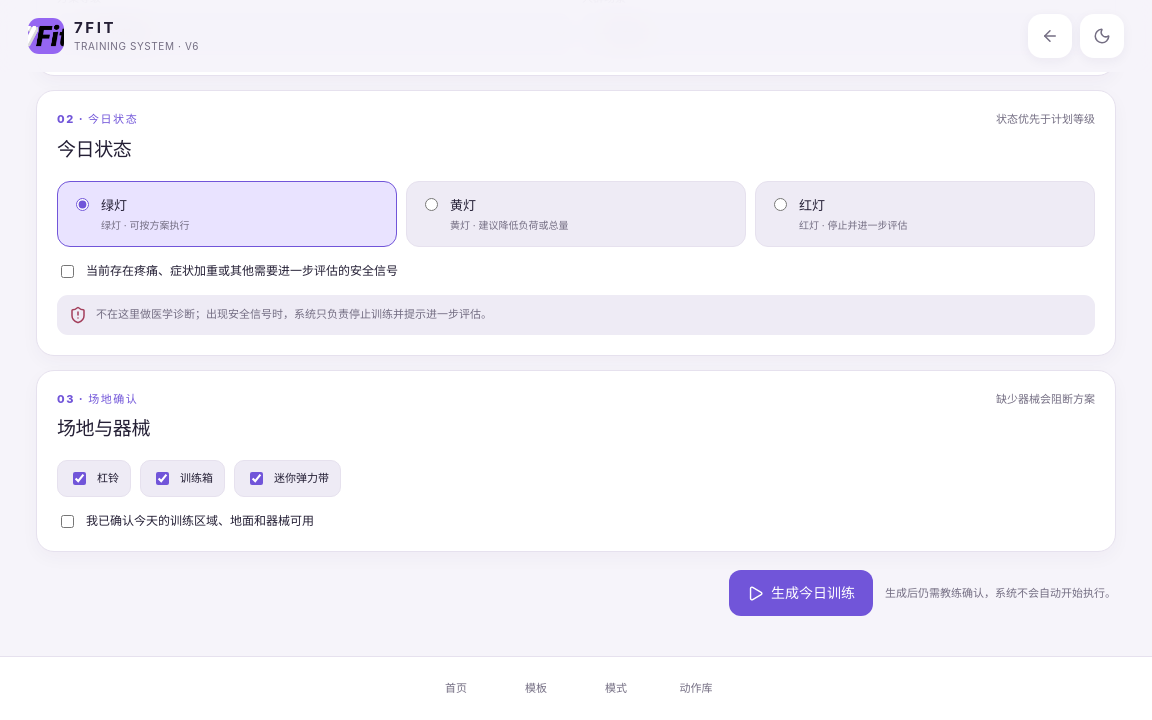
Test: PP-F111-C7 Chinese coach product integration › generates a plan, confirms it, records execution, and exposes next-step decisions
The width and height of the screenshot is (1152, 720).
(page scrolled)
Click the button "生成今日训练".
click(801, 593)  # box [729,570,873,616]
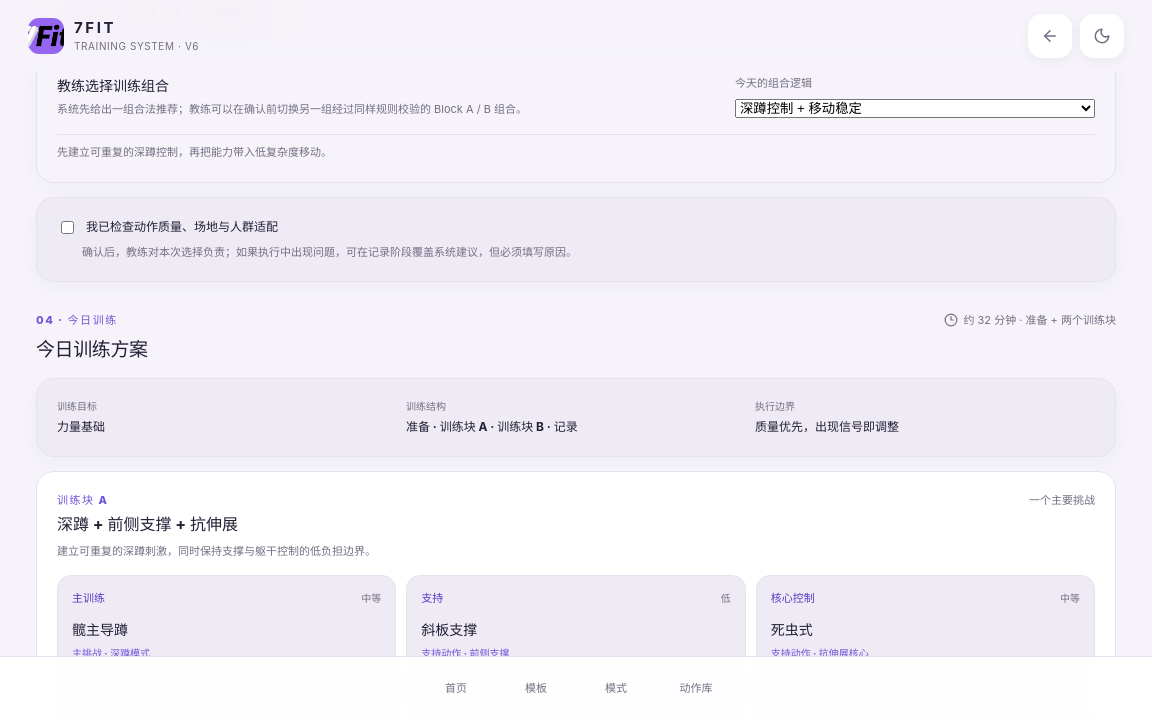
expect the heading "今日训练方案" is shown: met, box [36,335,148,364]
expect the heading "深蹲 + 前侧支撑 + 抗伸展" is shown: met, box [57,514,238,534]
Click the checkbox labelled "我已检查动作质量、场地与人群适配".
click(68, 227)  # box [61,220,74,234]
(page scrolled)
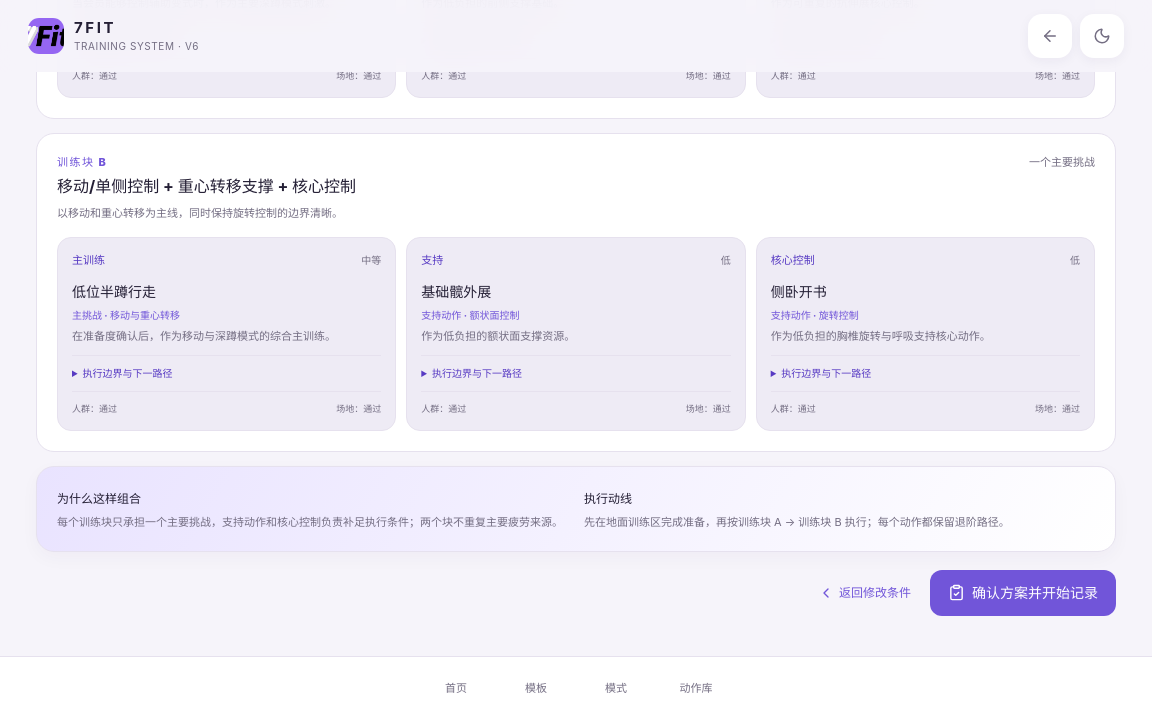
expect the button "确认方案并开始记录" is enabled: met
Click the button "确认方案并开始记录".
click(1023, 593)  # box [930,570,1116,616]
(page scrolled)
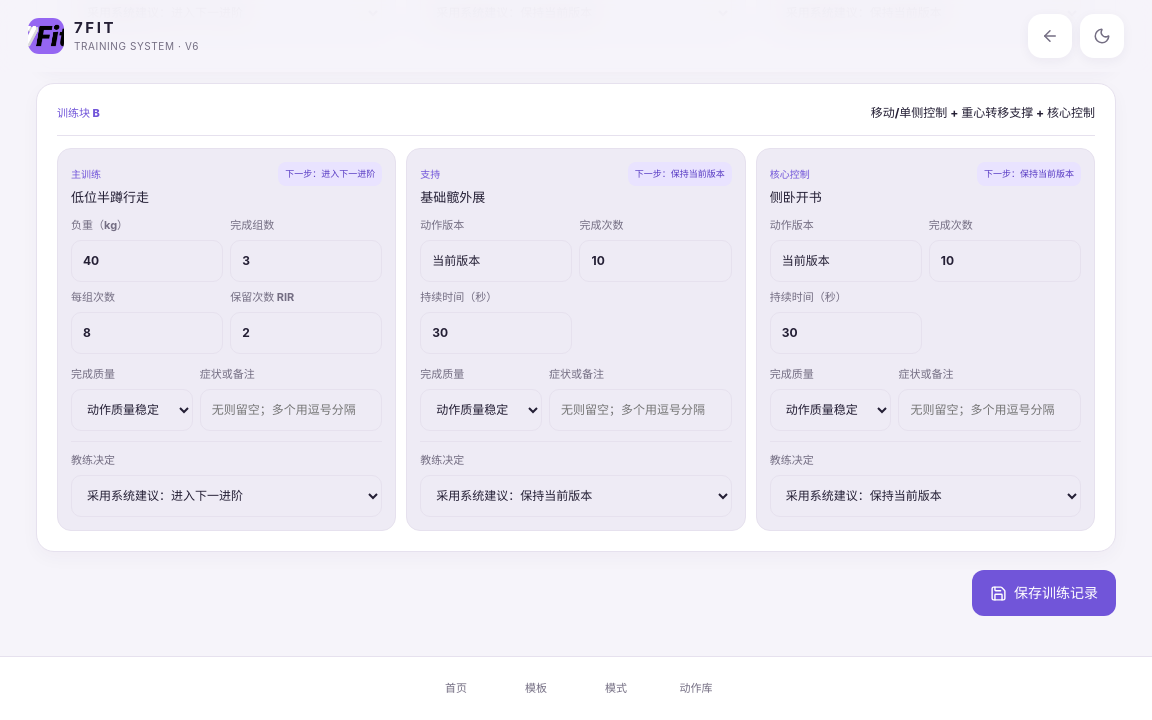
Click the button "保存训练记录".
click(1044, 593)  # box [972,570,1116,616]
(page scrolled)
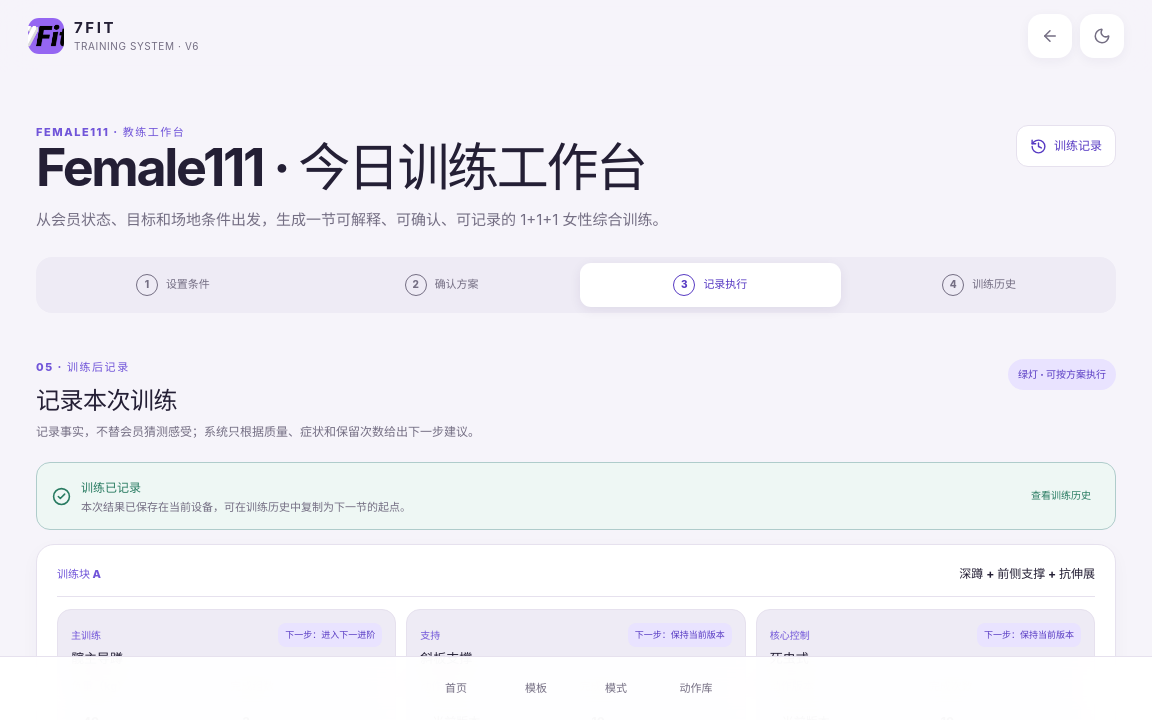
expect the text "训练已记录" is shown: met, box [81,480,141,495]
